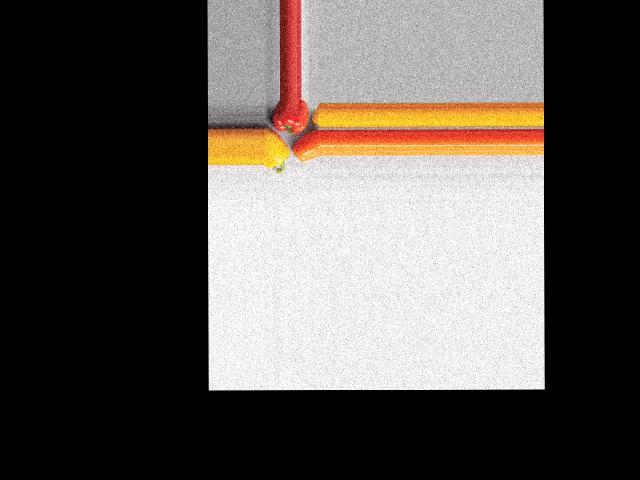bell_pepper: (270, 100, 309, 134)
